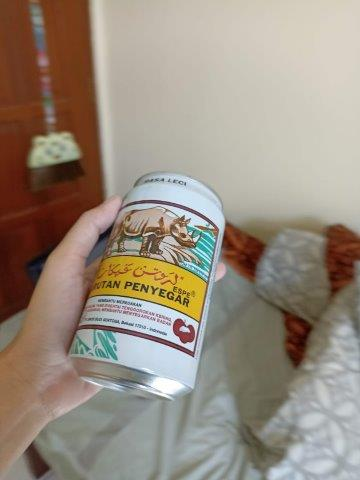kaleng: (68, 172, 224, 402)
